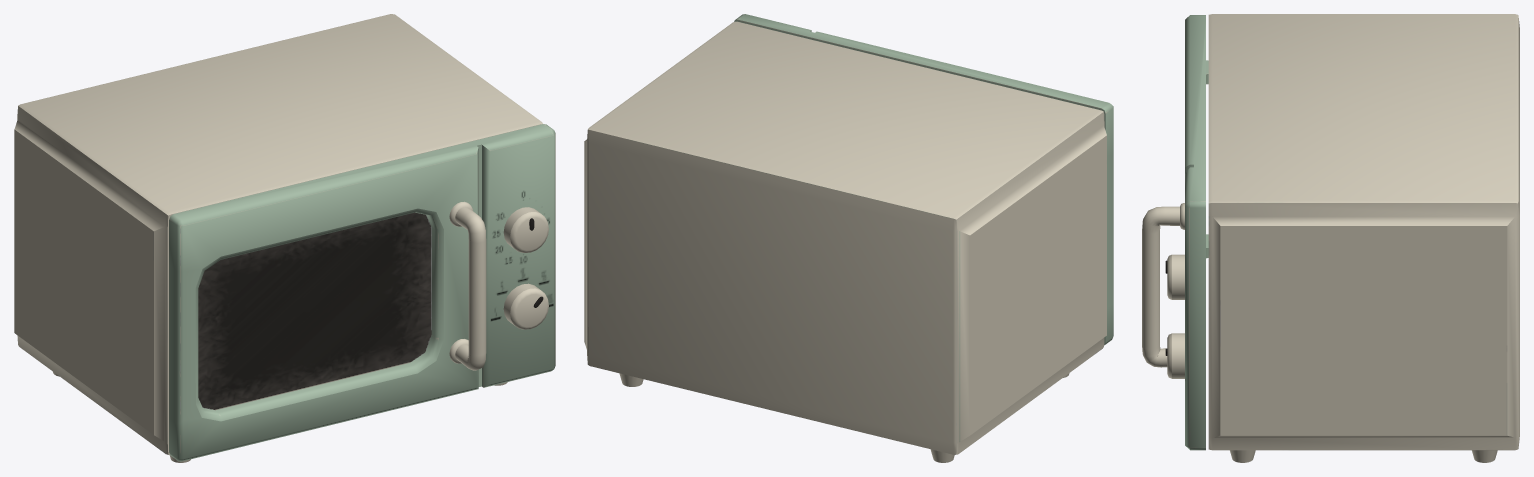
The model's file is Microwave.fbx.
3 views of the same model, side by side, from view 1: azimuth 30°, elevation 25°; view 2: azimuth 150°, elevation 25°; view 3: azimuth 270°, elevation 25° (orthographic). The views are drawn at different scales.
Parts seen in each view (by area): view 1: MicrowaveDoor, MicrowaveBase; view 2: MicrowaveBase, MicrowaveDoor; view 3: MicrowaveBase, MicrowaveDoor.
Boxes of the visible parts, x1,y1,x2,y2 form: MicrowaveDoor: [169, 124, 555, 461]; MicrowaveBase: [14, 14, 542, 462]; MicrowaveBase: [584, 21, 1106, 462]; MicrowaveDoor: [734, 14, 1113, 345]; MicrowaveBase: [1206, 14, 1519, 462]; MicrowaveDoor: [1142, 15, 1205, 450].
Size of the model in its own units: 55.02 by 35.34 by 44.55.
